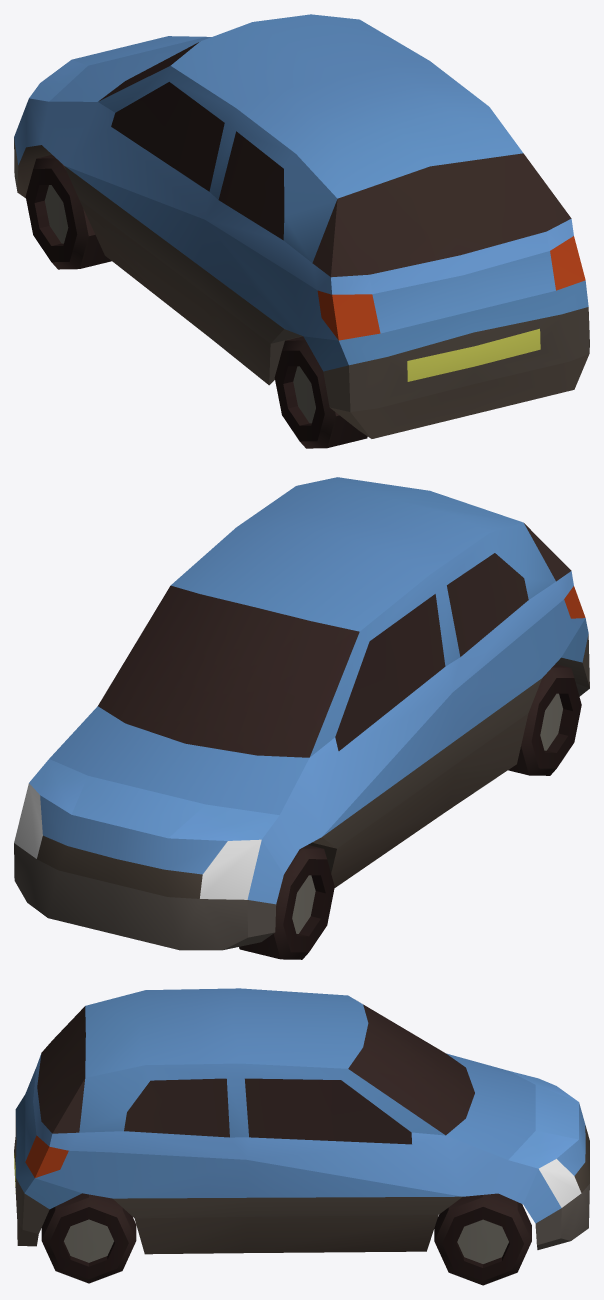
The model's file is car3.obj.
3 renders of one model, top to bottom at view 1: azimuth 30°, elevation 25°; view 2: azimuth 150°, elevation 25°; view 3: azimuth 270°, elevation 25°, orthographic. The views are drawn at different scales.
Visible parts, largest first — view 1: Car_Carrosserie, Car_Base; view 2: Car_Carrosserie, Car_Base; view 3: Car_Carrosserie, Car_Base.
Boxes of the visible parts, left/top/right/bottom form: Car_Carrosserie: left=14, top=14, right=588, bottom=371; Car_Base: left=14, top=42, right=589, bottom=448; Car_Carrosserie: left=29, top=477, right=588, bottom=904; Car_Base: left=14, top=523, right=589, bottom=959; Car_Carrosserie: left=15, top=988, right=585, bottom=1223; Car_Base: left=14, top=1004, right=589, bottom=1285.
Size of the model in its own units: 1.94 by 1.98 by 4.67.
Materials: 2 (2 with a texture image).
